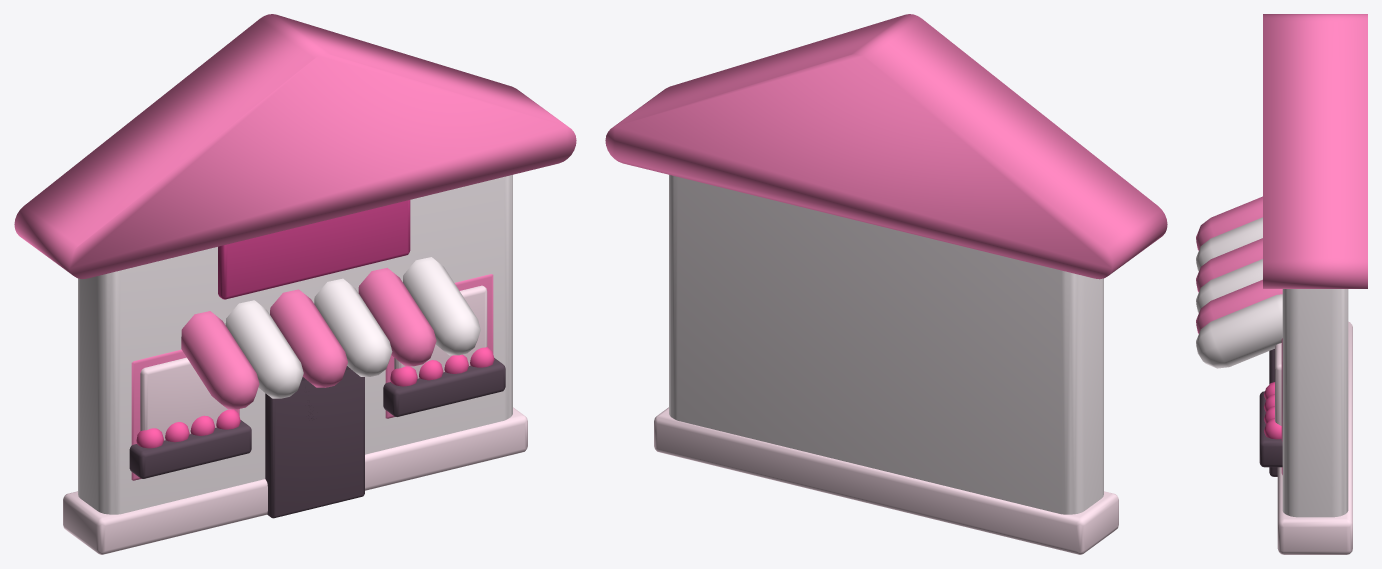
Rendered from facade_flowers.obj.
3 views of the same model, side by side, from view 1: azimuth 30°, elevation 25°; view 2: azimuth 150°, elevation 25°; view 3: azimuth 270°, elevation 25° (orthographic). The views are drawn at different scales.
Visible parts, largest first — view 1: Roof, Wall, Trim, AwningA, AwningB, Door, Sign, Topper, Windows, TopperB, Frames; view 2: Wall, Roof, Trim; view 3: Roof, Wall, AwningB, AwningA, Trim, Topper, TopperB, Windows, Door.
Boxes of the visible parts, x1,y1,x2,y2 form: Roof: (14, 14, 576, 279); Wall: (78, 175, 512, 514); Trim: (63, 407, 527, 554); AwningA: (181, 267, 436, 409); AwningB: (225, 257, 480, 398); Door: (265, 366, 364, 518); Sign: (218, 200, 410, 299); Topper: (129, 358, 505, 478); Windows: (140, 285, 487, 440); TopperB: (136, 347, 494, 448); Frames: (131, 274, 493, 480); Wall: (669, 175, 1103, 514); Roof: (605, 14, 1167, 279); Trim: (654, 407, 1118, 554); Roof: (1263, 14, 1367, 288); Wall: (1282, 289, 1348, 517); AwningB: (1196, 217, 1282, 368); AwningA: (1196, 196, 1282, 333); Trim: (1277, 321, 1352, 554); Topper: (1259, 391, 1282, 467); TopperB: (1264, 382, 1281, 439); Windows: (1275, 343, 1281, 425); Door: (1269, 349, 1277, 476).
Bounding box in the file's own units: 17.2 × 14.8 × 5.24.
